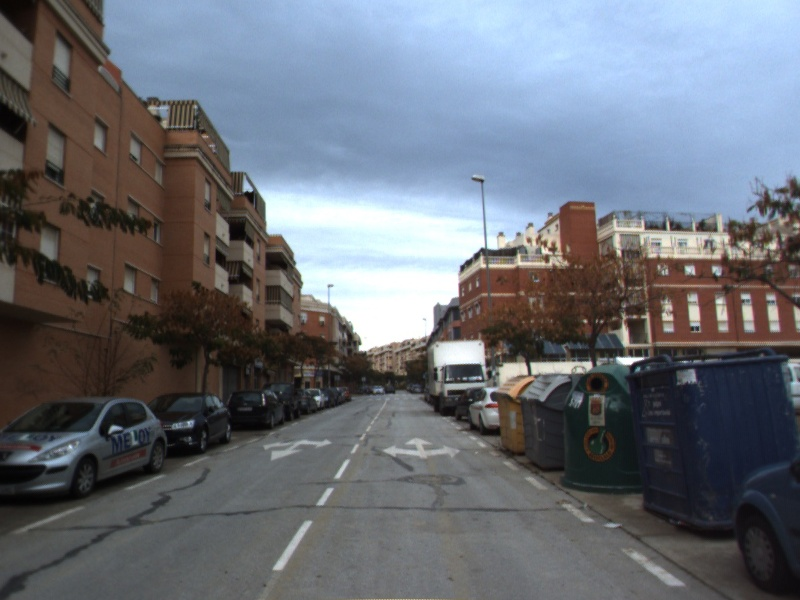STRAIGHT_LEFT_RIGHT: (380, 435, 464, 460)
